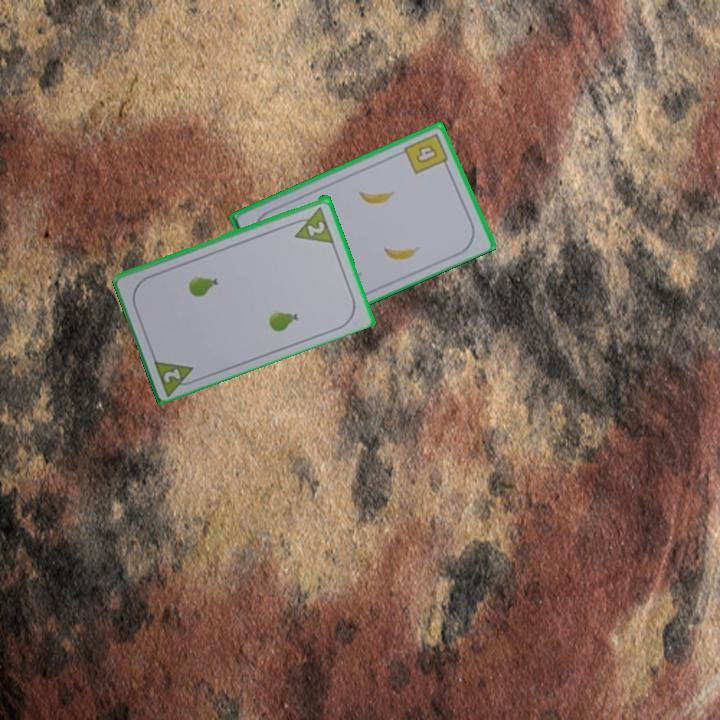2p: (304, 217, 328, 239), (160, 364, 184, 385)
4b: (400, 130, 452, 177)
